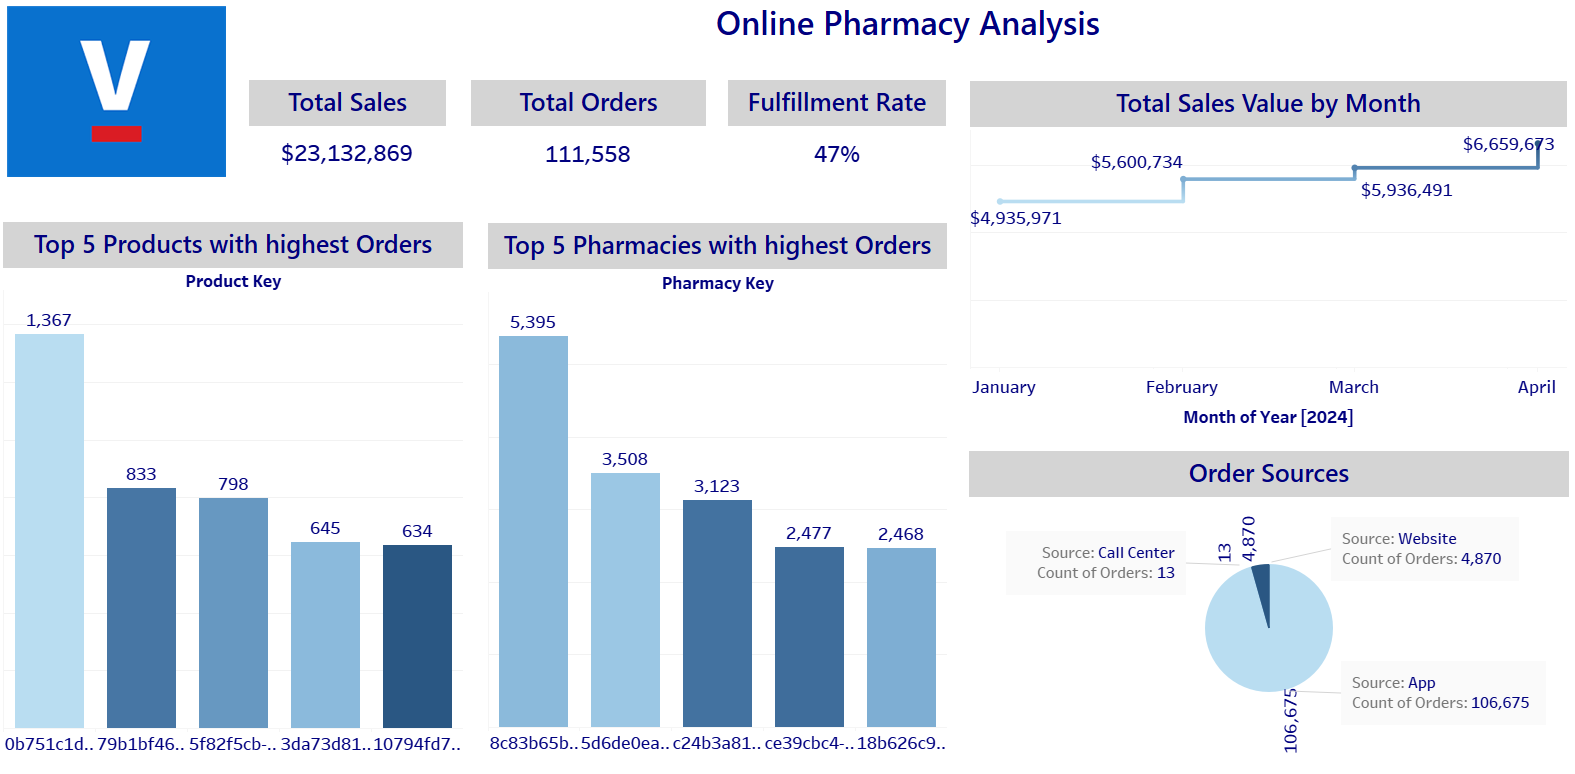

This screenshot's page, from the dashboard's own definition file:
{"tool":"tableau","page":{"name":"Overview","canvas":[1600,801],"ordinal":0},"visuals":[{"type":"text","box":[261,10,1318,67]},{"type":"image","param":"D:/Data Analyst Case Study (Vezeeta)/vezeeta.png","box":[19,28,221,171]},{"type":"worksheet","title":"SalesValue","mark":"Automatic","box":[261,102,197,96]},{"type":"worksheet","title":"TotalOrder","mark":"Automatic","box":[483,102,235,97]},{"type":"worksheet","title":"FulfillmentRate","mark":"Automatic","box":[740,102,218,98]},{"type":"worksheet","title":"MonthSales","mark":"Line","rows":["Calculation_893120142888820736"],"cols":["CreatedOn"],"box":[982,103,597,354]},{"type":"worksheet","title":"TopProducts","mark":"Automatic","rows":["OrderItems_3D11C9F80AB849B683354290E35FB460"],"cols":["ProductKey"],"box":[15,244,460,534]},{"type":"worksheet","title":"TopPharmacies","mark":"Automatic","rows":["Orders_EE6952D8D3DA4993B4189B65892EE140"],"cols":["PharmacyKey"],"box":[500,245,459,532]},{"type":"worksheet","title":"OrderSource","mark":"Pie","box":[981,473,600,305]}]}

Visuals, with their boxes in screenshot pixels (x1, y1, x2, y2), scaled from the page's 1600x801 canvas onto the 1575x774 screenshot:
text: [257, 10, 1554, 74]
image: [19, 27, 236, 192]
"SalesValue" worksheet: [257, 99, 451, 191]
"TotalOrder" worksheet: [475, 99, 707, 192]
"FulfillmentRate" worksheet: [728, 99, 943, 193]
"MonthSales" worksheet (Line marks): [967, 100, 1554, 442]
"TopProducts" worksheet: [15, 236, 468, 752]
"TopPharmacies" worksheet: [492, 237, 944, 751]
"OrderSource" worksheet (Pie marks): [966, 457, 1556, 752]
